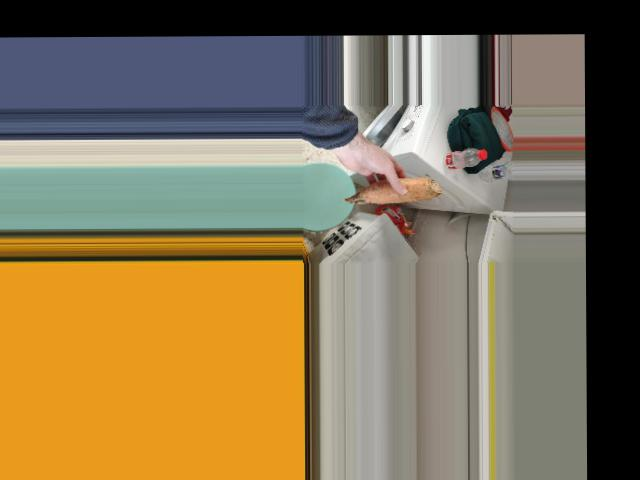sweet_potato: (342, 170, 444, 206)
